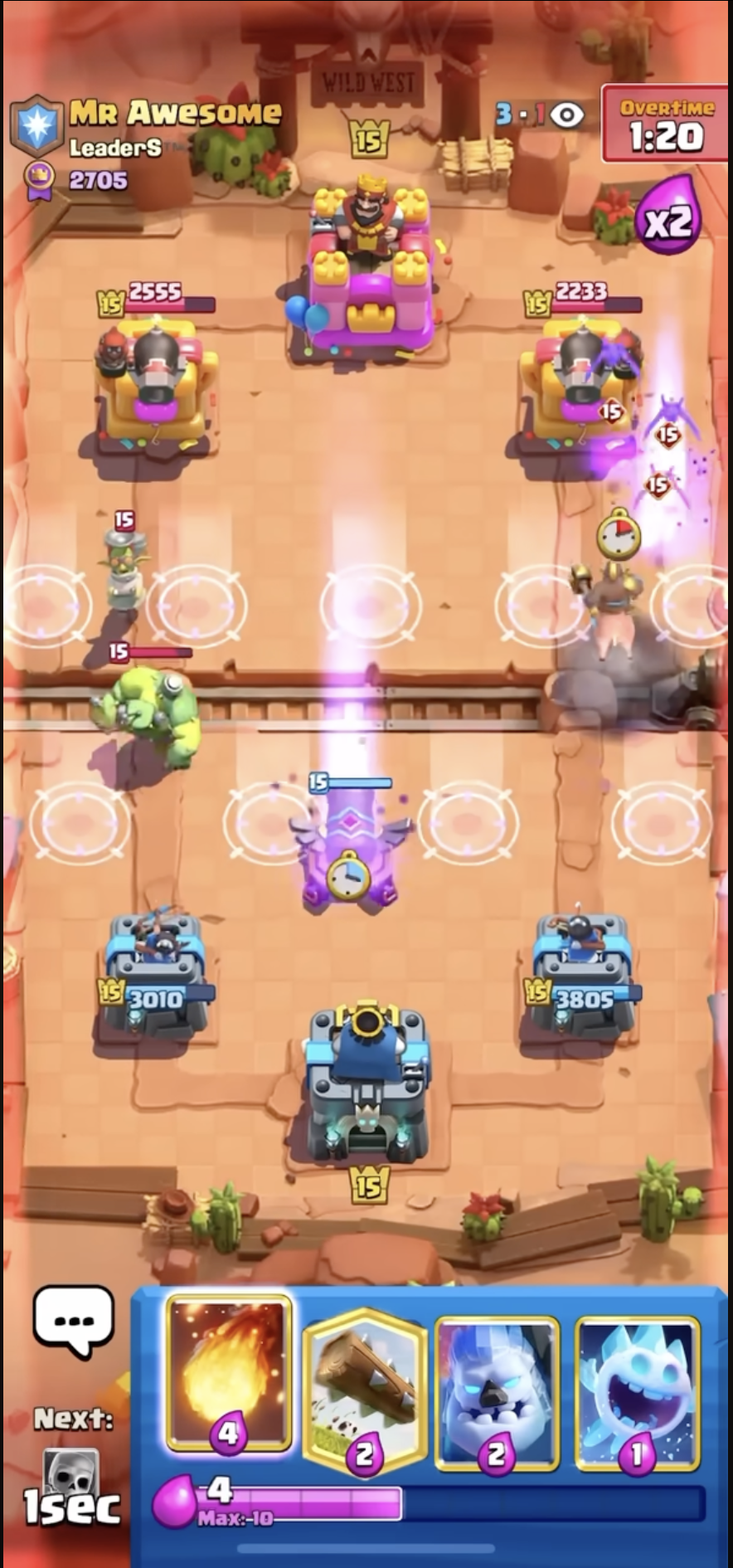evo_cannon: (279, 758, 423, 919)
hog_rider: (553, 539, 657, 677)
